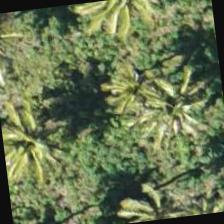Kelapa_Sawit: (119, 52, 219, 152), (0, 96, 80, 195)
